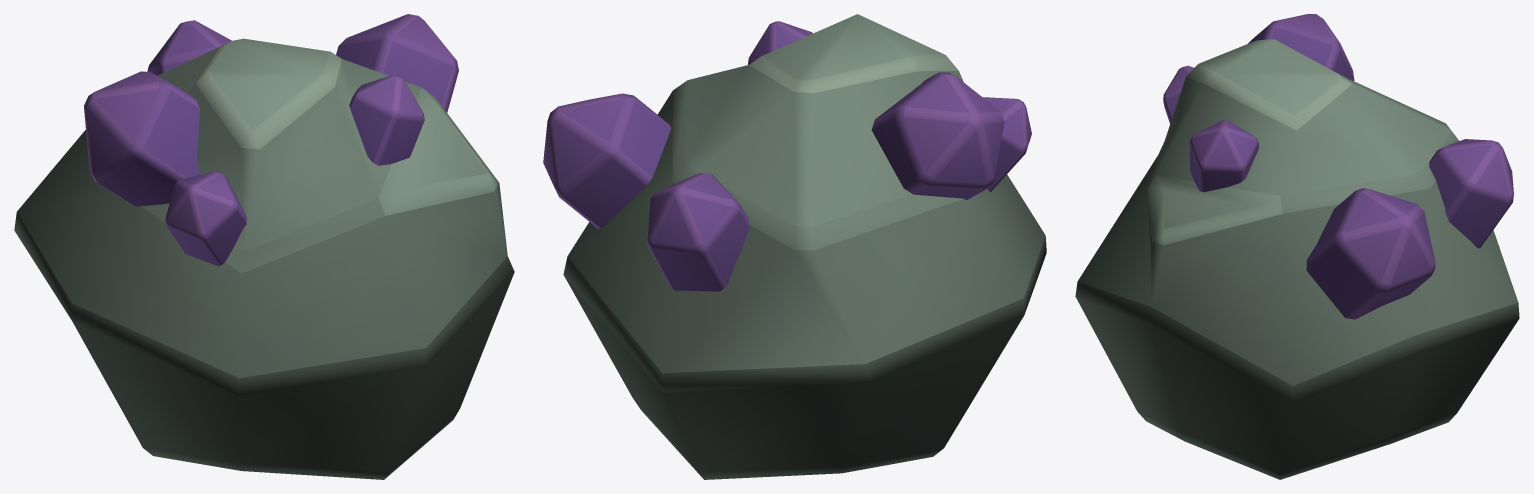
File: ore_christal_amethyst_M.fbx
3 renders of one model, left to right at view 1: azimuth 30°, elevation 25°; view 2: azimuth 150°, elevation 25°; view 3: azimuth 270°, elevation 25°, orthographic. The views are drawn at different scales.
Parts seen in each view (by area): view 1: ore_christal_amethyst_M; view 2: ore_christal_amethyst_M; view 3: ore_christal_amethyst_M.
Part boxes in pixels (bbox=[...]): ore_christal_amethyst_M: bbox=[14, 14, 514, 479]; ore_christal_amethyst_M: bbox=[543, 14, 1046, 479]; ore_christal_amethyst_M: bbox=[1075, 14, 1519, 479].
Bounding box in the file's own units: 139 × 132 × 139.
Materials: 1 (1 with a texture image).
